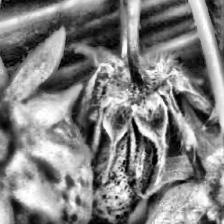Gray Mold: (73, 40, 215, 224)
